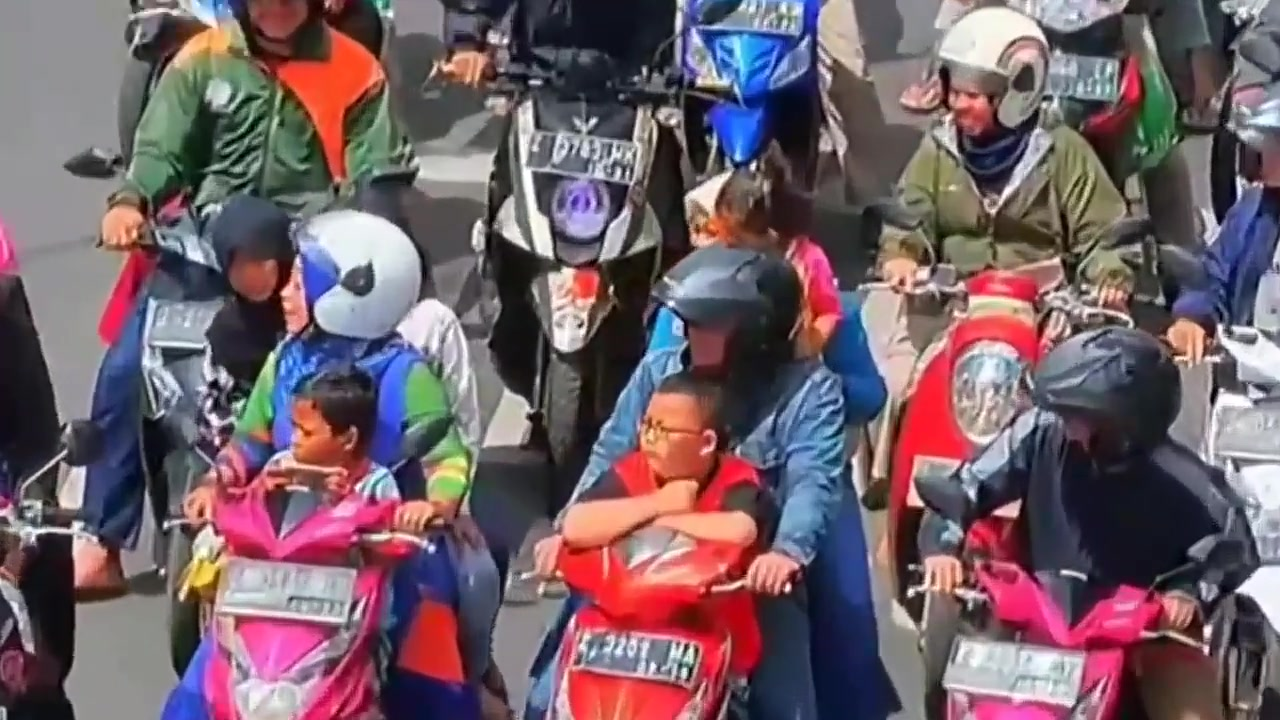person with helmet: (1008, 319, 1185, 471), (915, 6, 1073, 153), (645, 245, 819, 376)
person without helm: (621, 376, 743, 502), (281, 361, 376, 475), (206, 195, 292, 312)
